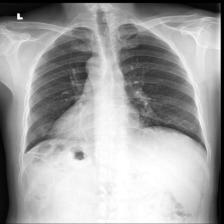normal: (19, 21, 210, 159)
